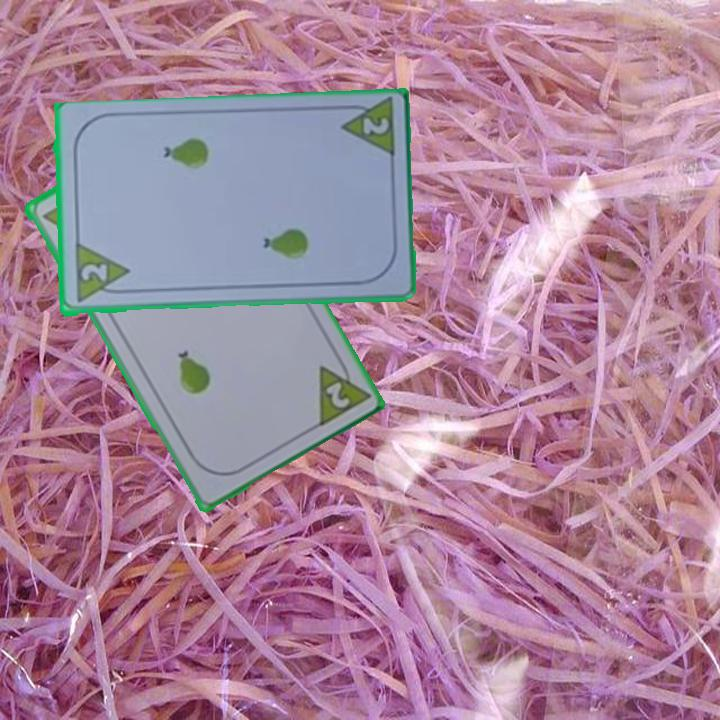2p: (312, 350, 371, 431), (71, 242, 132, 306), (359, 114, 392, 138)
